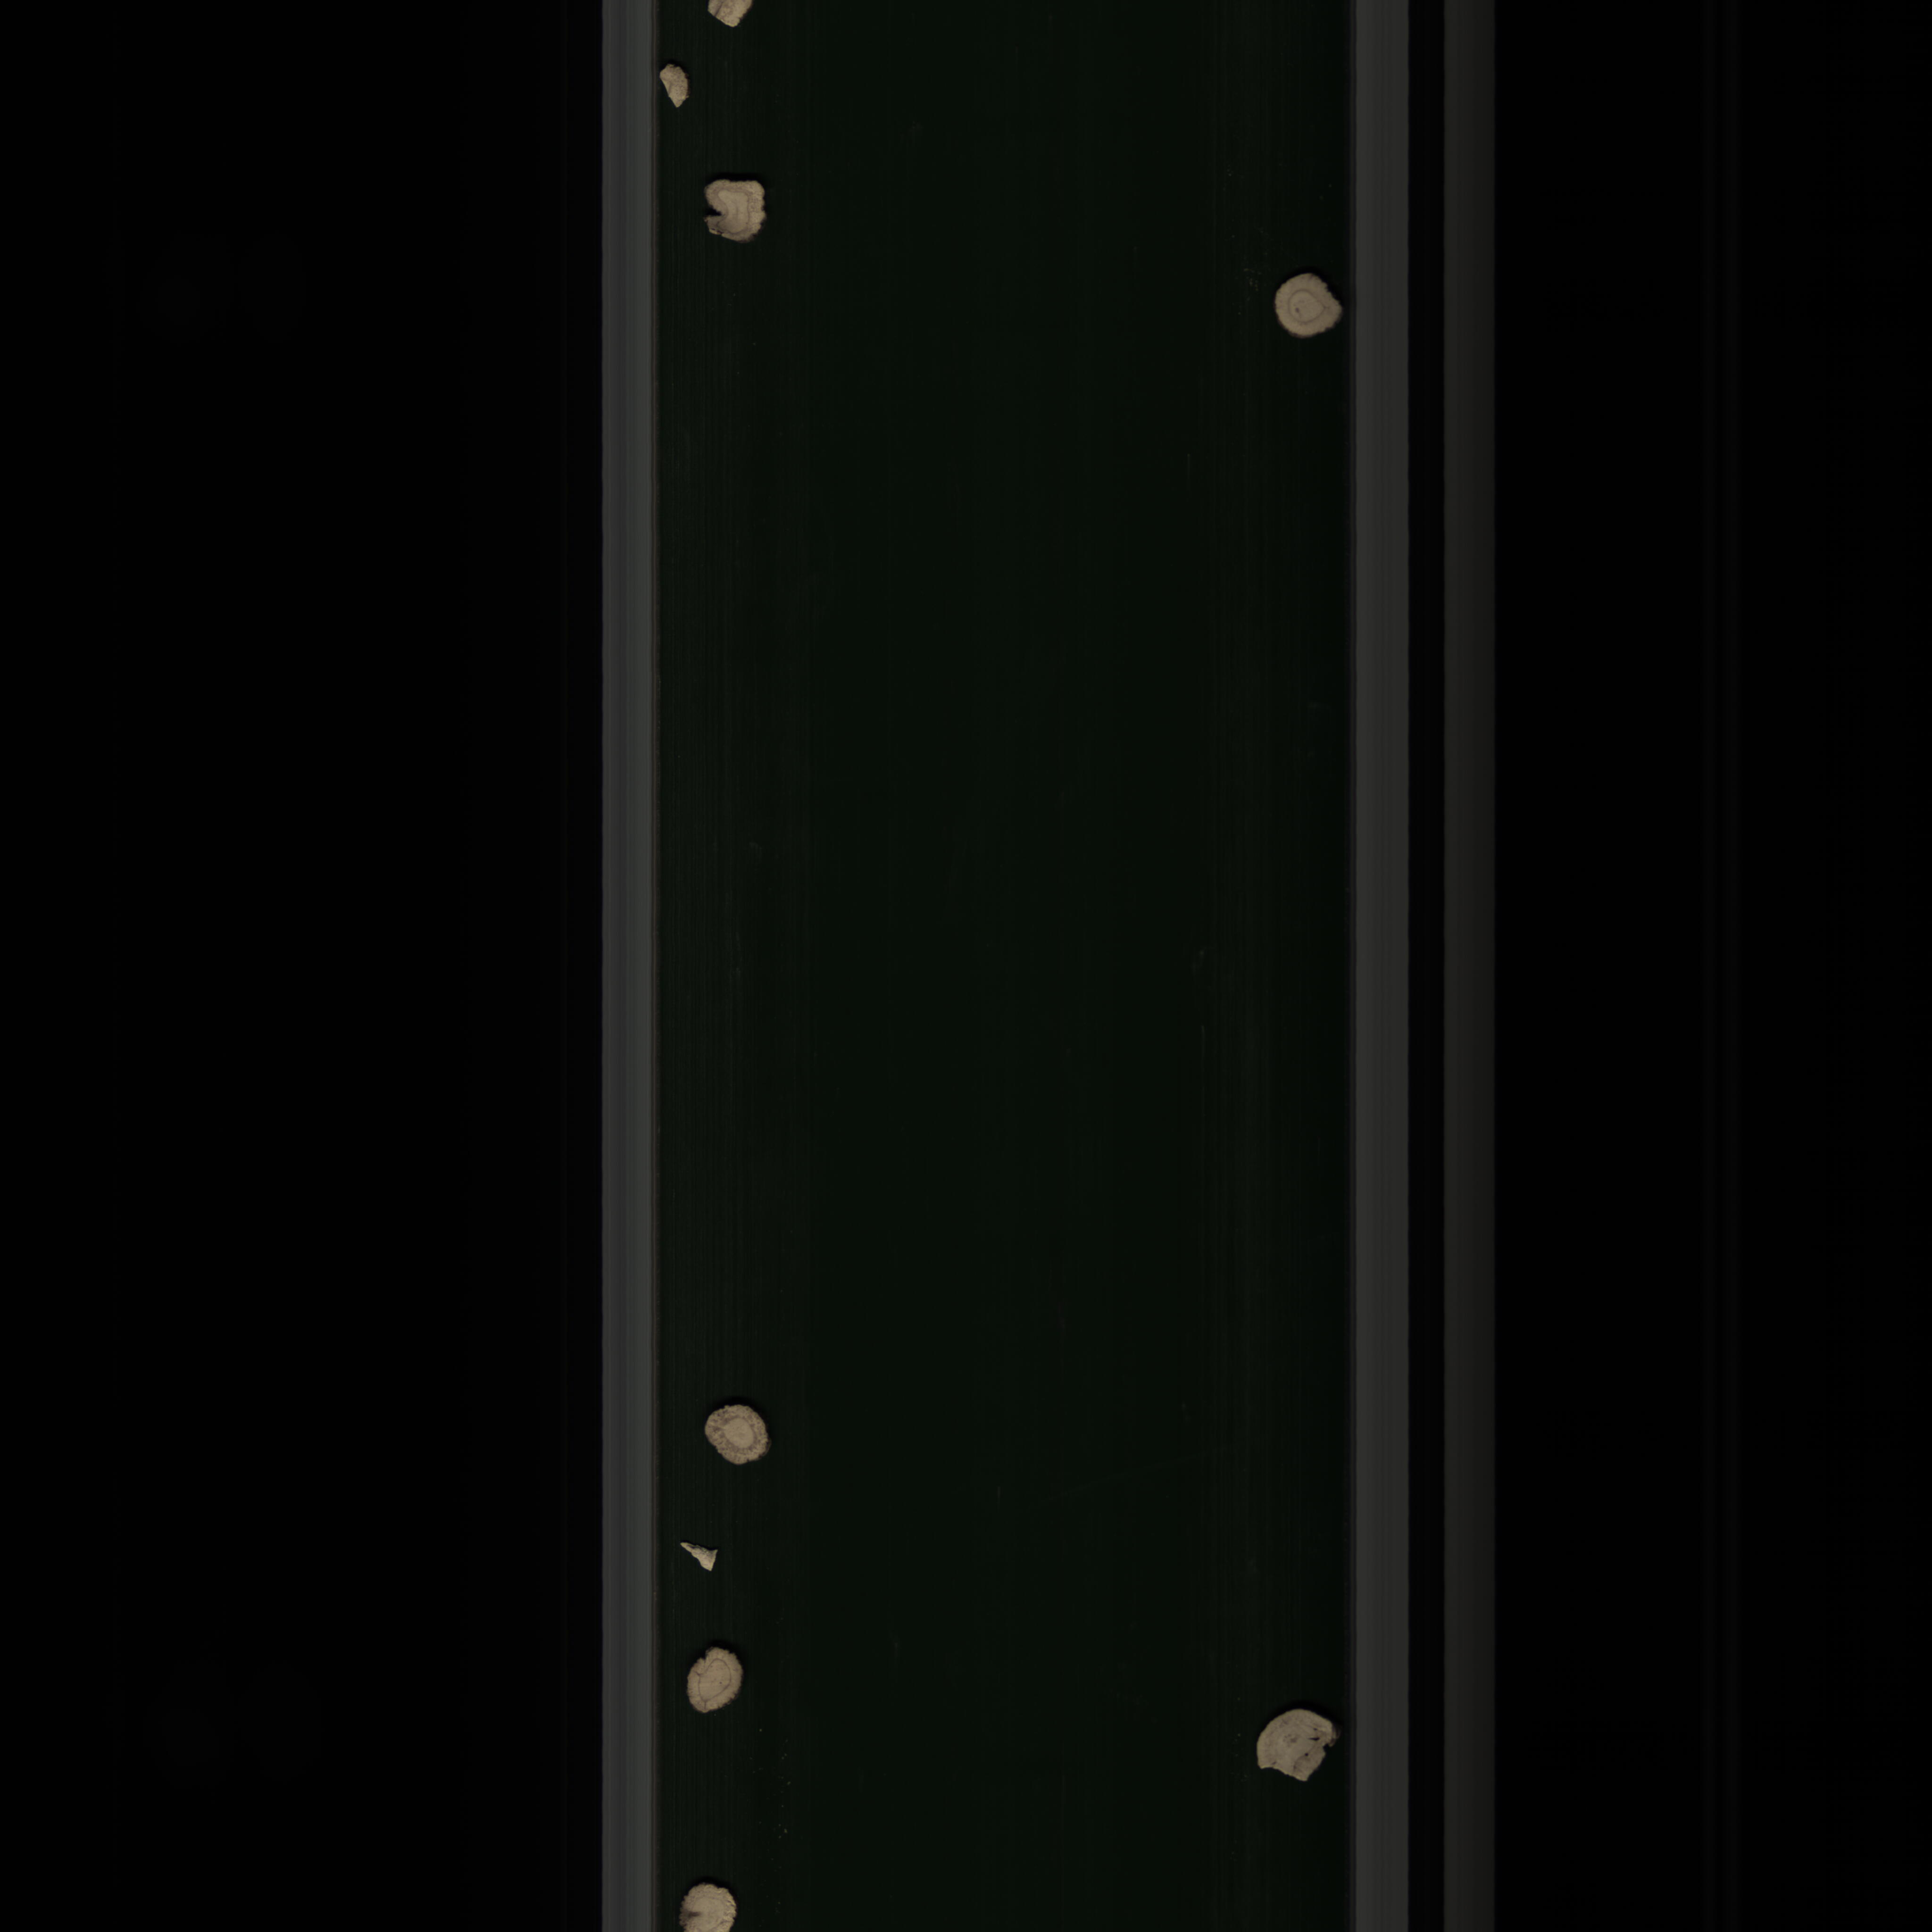bark: (678, 1543, 724, 1571)
debris: (1249, 1702, 1339, 1798), (651, 53, 701, 117)
distortion: (697, 166, 778, 255)
